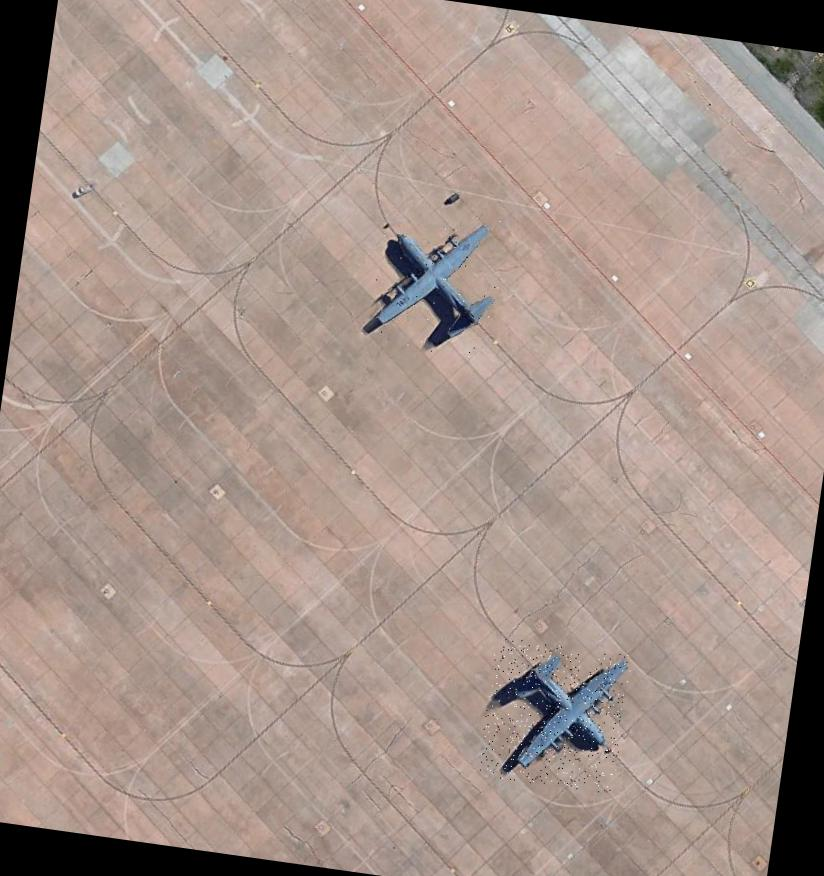A2: (477, 636, 632, 794), (360, 204, 509, 361)
